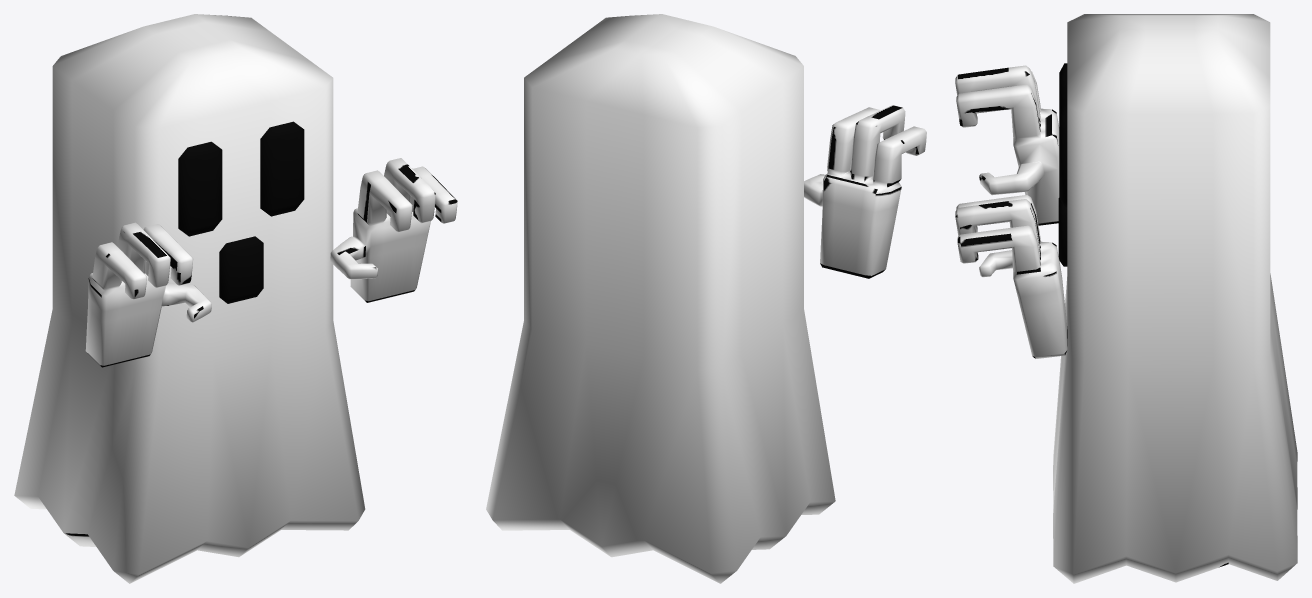
File: final_ghost.fbx
3 renders of one model, left to right at view 1: azimuth 30°, elevation 25°; view 2: azimuth 150°, elevation 25°; view 3: azimuth 270°, elevation 25°, orthographic. The views are drawn at different scales.
Parts seen in each view (by area): view 1: Object_7, Object_8; view 2: Object_7; view 3: Object_7, Object_8.
Boxes of the visible parts, bbox=[...] form: Object_7: bbox=[14, 14, 457, 583]; Object_8: bbox=[178, 121, 304, 303]; Object_7: bbox=[486, 14, 926, 583]; Object_7: bbox=[955, 14, 1297, 583]; Object_8: bbox=[1058, 63, 1067, 266].
Bounding box in the file's own units: 0.0363 × 0.0509 × 0.0316.
2 materials, 2 textured.
